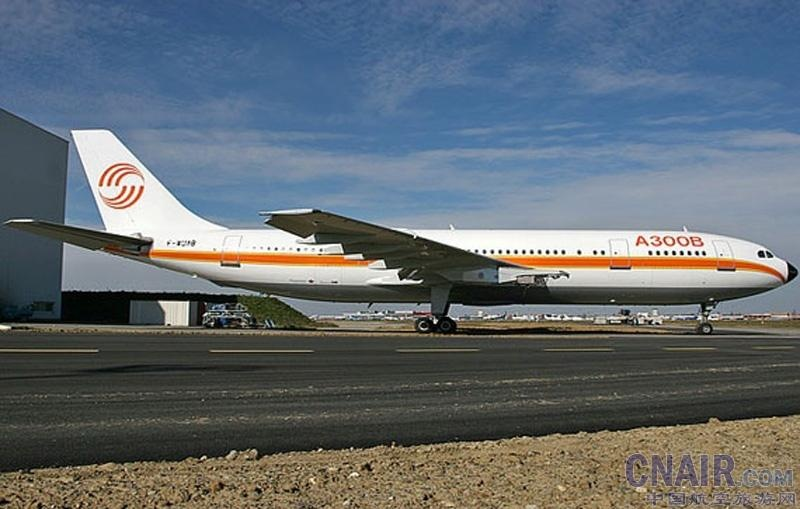airplane: (5, 125, 799, 334)
